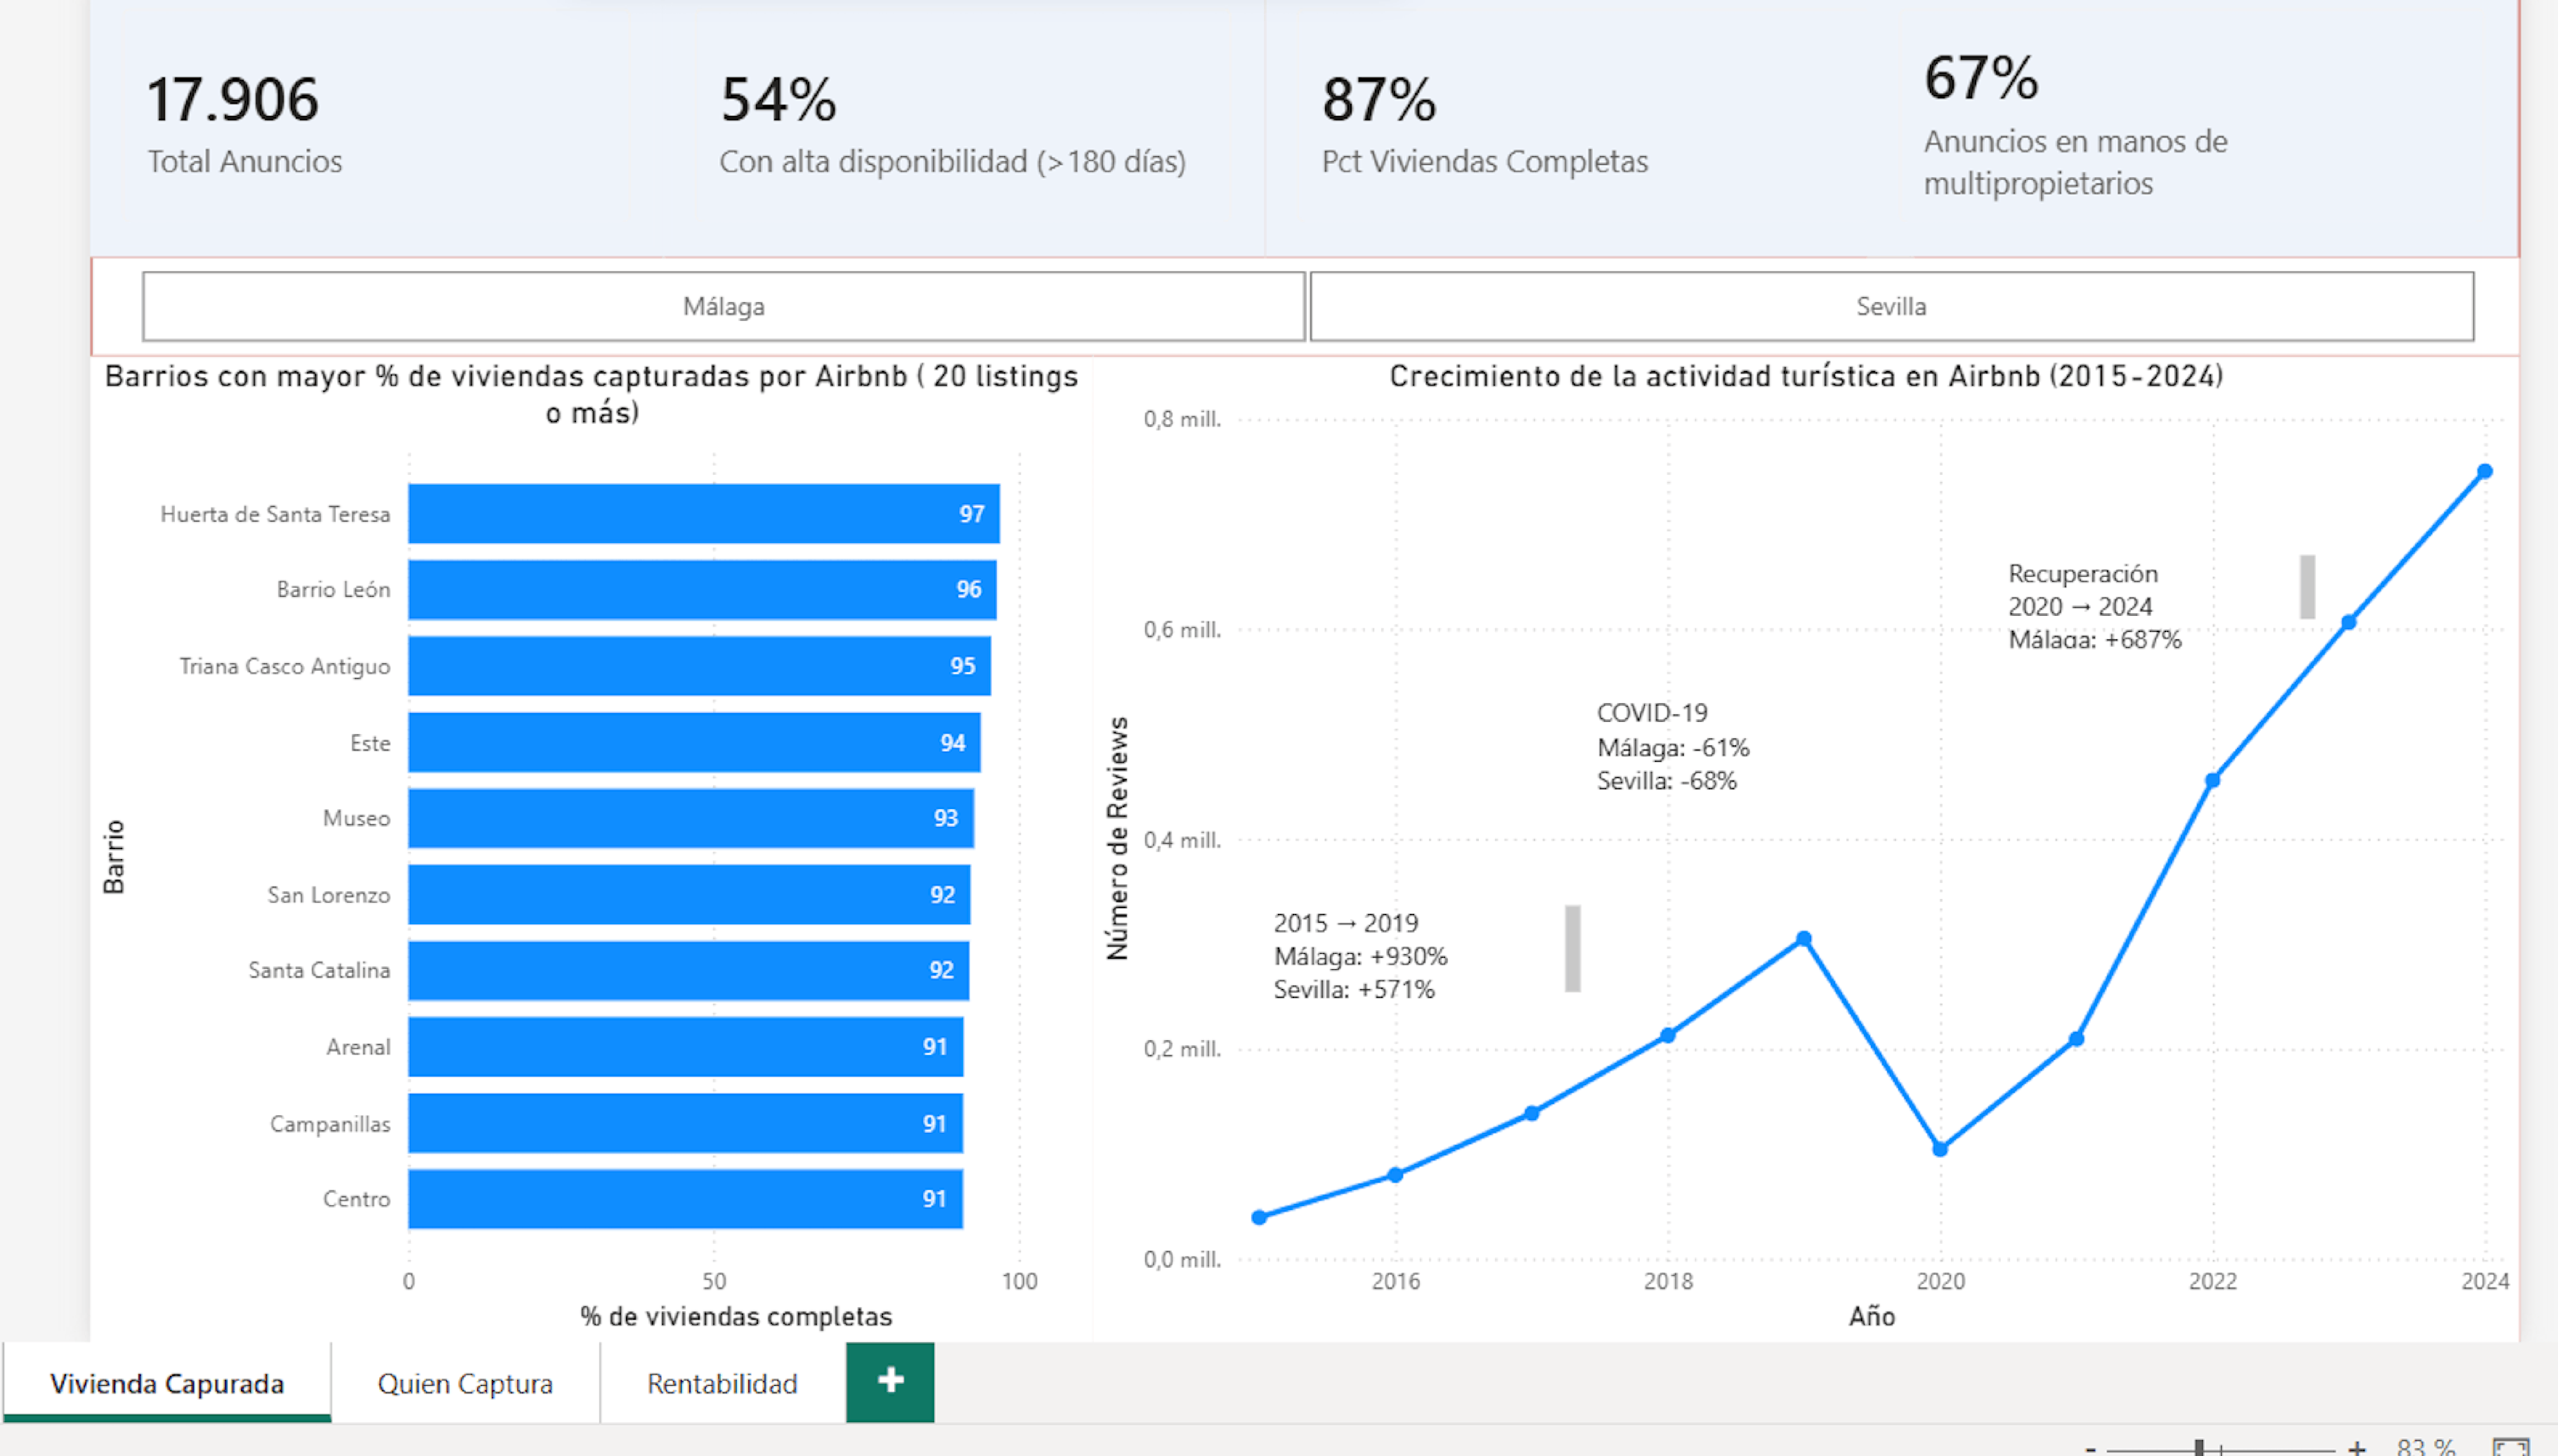

Layout of this report page (visuals, bound fields, positions):
{"tool":"powerbi","page":{"name":"Vivienda Capurada","canvas":[1280,720],"ordinal":0},"visuals":[{"type":"cardVisual","fields":{"Data":["Comparativa Ciudades.Total Listings"]},"box":[0,0,302.3,147.7],"z":0},{"type":"cardVisual","fields":{"Data":["Comparativa Ciudades.Pct Alta Disponibilidad"]},"box":[302,0,317.4,147.9],"z":1000},{"type":"cardVisual","fields":{"Data":["Comparativa Ciudades.Pct Viviendas Completas"]},"box":[619.4,0,342,147.9],"z":2000},{"type":"cardVisual","fields":{"Data":["Comparativa Ciudades.Pct Multihost Listings"]},"box":[936.7,0,343.6,147.9],"z":3000},{"type":"clusteredBarChart","title":"Barrios con mayor % de viviendas capturadas por Airbnb ( 20 listings o más)","fields":{"Category":["Presion por Barrio.NEIGHBOURHOOD_CLEANSED"],"Y":["Sum(Presion por Barrio.PCT_ENTIRE_HOME)"]},"box":[0,199.7,528.6,519.8],"z":4000},{"type":"slicer","fields":{"Values":["Ciudades.Ciudad Display"]},"box":[1.5,148.3,1278.8,51.4],"z":5000},{"type":"lineChart","title":"Crecimiento de la actividad turística en Airbnb (2015-2024)","fields":{"Category":["Reviews Mensuales.REVIEW_MONTH_START.Variación.Jerarquía de fechas.Año","Reviews Mensuales.REVIEW_MONTH_START.Variación.Jerarquía de fechas.Trimestre","Reviews Mensuales.REVIEW_MONTH_START.Variación.Jerarquía de fechas.Mes","Reviews Mensuales.REVIEW_MONTH_START.Variación.Jerarquía de fechas.Día"],"Y":["Sum(Reviews Mensuales.TOTAL_REVIEWS)"]},"box":[528.6,199.7,751.7,519.8],"z":6000},{"type":"textbox","box":[618.9,485,171.3,59.1],"z":7000},{"type":"textbox","box":[788.4,374.4,173.3,73.4],"z":8000},{"type":"textbox","box":[1005.7,301,171.8,58.7],"z":9000}]}

Visuals, with their boxes on the page's 1280x720 design canvas (x1, y1, x2, y2). These are canvas units, not pixel positions in the 2558x1456 screenshot, which may show the page scaled, cropped or inside an application window:
cardVisual - Comparativa Ciudades.Total Listings: detection(0, 0, 302, 148)
cardVisual - Comparativa Ciudades.Pct Alta Disponibilidad: detection(302, 0, 619, 148)
cardVisual - Comparativa Ciudades.Pct Viviendas Completas: detection(619, 0, 961, 148)
cardVisual - Comparativa Ciudades.Pct Multihost Listings: detection(937, 0, 1280, 148)
"Barrios con mayor % de viviendas capturadas por Airbnb ( 20 listings o más)" clusteredBarChart: detection(0, 200, 529, 720)
slicer - Ciudades.Ciudad Display: detection(2, 148, 1280, 200)
"Crecimiento de la actividad turística en Airbnb (2015-2024)" lineChart: detection(529, 200, 1280, 720)
textbox: detection(619, 485, 790, 544)
textbox: detection(788, 374, 962, 448)
textbox: detection(1006, 301, 1178, 360)
